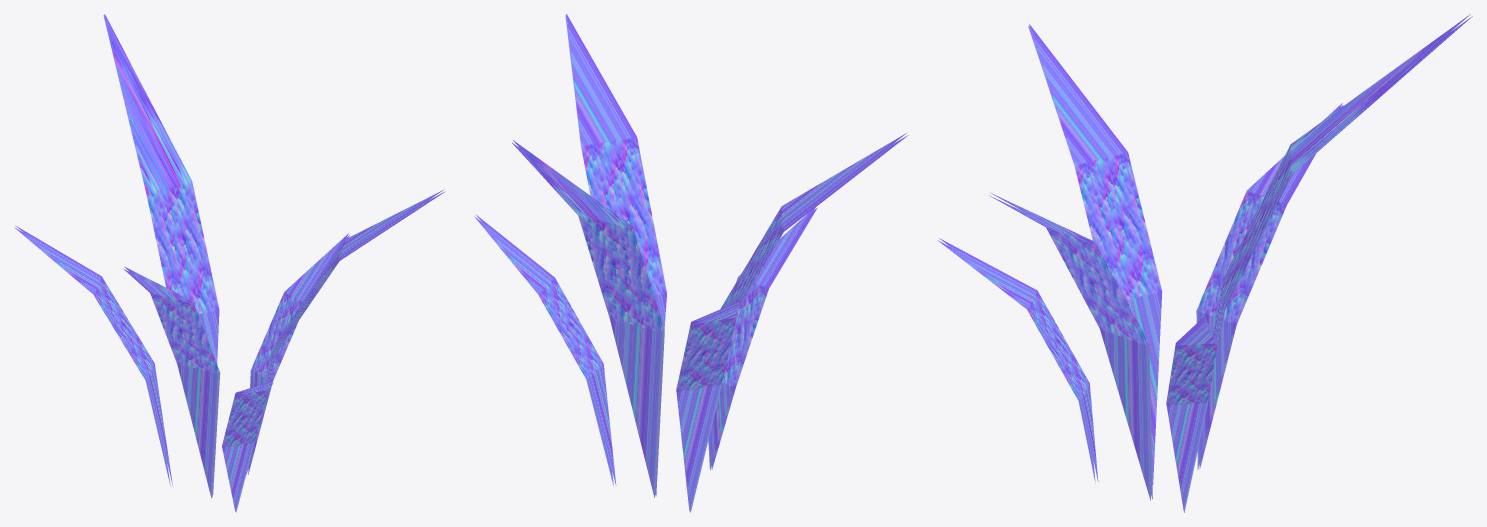
The model's file is grassPiece.glb.
3 views of the same model, side by side, from view 1: azimuth 30°, elevation 25°; view 2: azimuth 150°, elevation 25°; view 3: azimuth 270°, elevation 25° (orthographic). The views are drawn at different scales.
Visible parts, largest first — view 1: GrassPiece; view 2: GrassPiece; view 3: GrassPiece.
Part boxes in pixels (x1=…): GrassPiece: x1=14, y1=14, x2=445, y2=512; GrassPiece: x1=474, y1=14, x2=908, y2=512; GrassPiece: x1=937, y1=14, x2=1472, y2=512.
Size of the model in its own units: 0.4731 by 0.5689 by 0.5718.
1 material, 1 textured.
